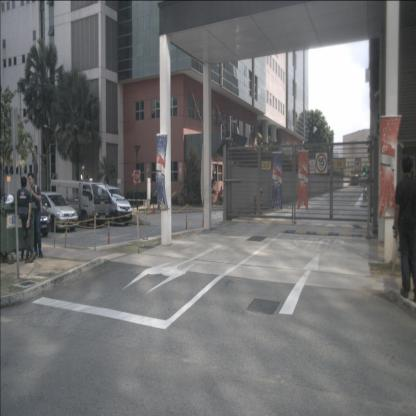human-pedestrian-adult: (392, 156, 416, 303), (394, 167, 416, 294), (14, 176, 37, 264), (27, 173, 44, 259)
movable_object-trafficcone: (185, 210, 189, 234), (107, 219, 110, 249), (202, 209, 205, 228), (152, 202, 155, 214)
vehicle-car: (78, 185, 132, 226), (29, 192, 78, 231), (5, 196, 52, 236)
vehicle-truck: (51, 179, 109, 226)
